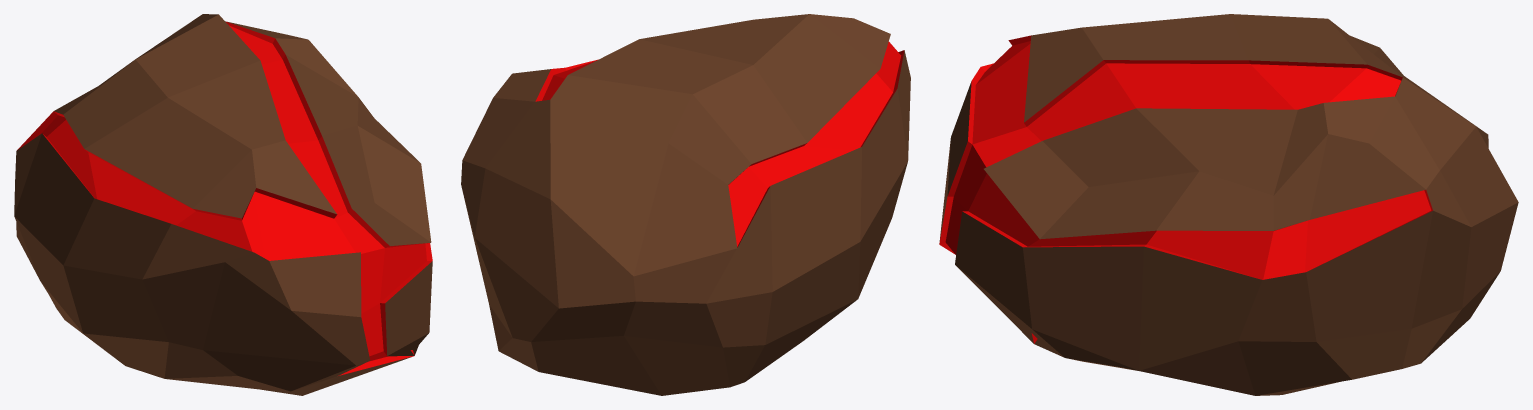
Rendered from angry.glb.
3 renders of one model, left to right at view 1: azimuth 30°, elevation 25°; view 2: azimuth 150°, elevation 25°; view 3: azimuth 270°, elevation 25°, orthographic. The views are drawn at different scales.
Parts seen in each view (by area): view 1: ziran.821; view 2: ziran.821; view 3: ziran.821.
Part boxes in pixels (left/top/right/bottom): ziran.821: left=14, top=14, right=432, bottom=395; ziran.821: left=461, top=14, right=910, bottom=395; ziran.821: left=939, top=14, right=1518, bottom=395.
Bounding box in the file's own units: 0.7767 × 0.5942 × 1.03.
1 material, 1 textured.
